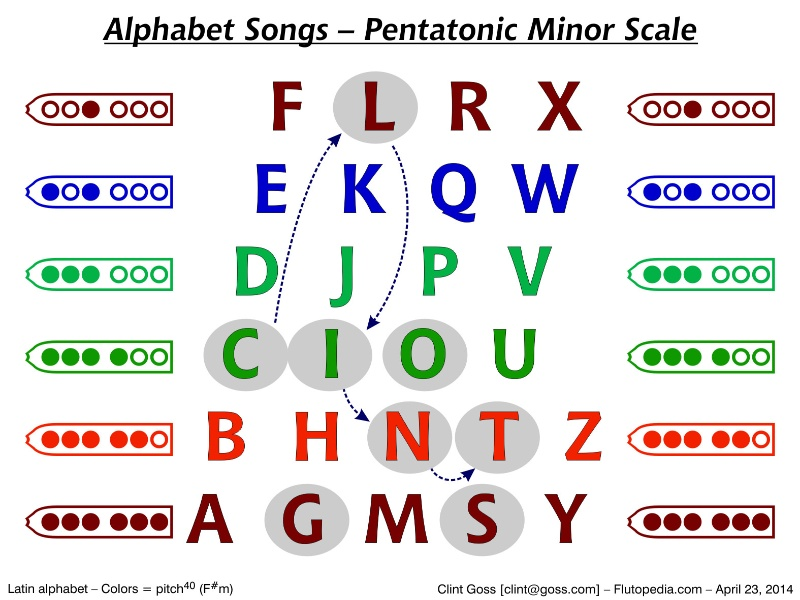letter: (333, 69, 431, 139), (356, 486, 444, 556), (266, 486, 346, 560), (493, 245, 576, 307), (414, 161, 494, 222), (186, 481, 244, 562), (307, 243, 374, 313), (191, 408, 266, 469), (548, 406, 617, 468), (528, 73, 589, 141), (331, 159, 399, 220), (468, 405, 532, 468), (296, 327, 366, 382), (212, 325, 274, 387), (397, 324, 457, 388), (454, 497, 519, 556), (442, 78, 500, 144), (481, 331, 560, 379), (511, 163, 583, 215), (535, 494, 604, 548), (255, 78, 322, 133), (218, 245, 287, 297), (377, 414, 450, 463), (289, 413, 355, 464), (244, 163, 300, 221), (414, 248, 472, 303)
